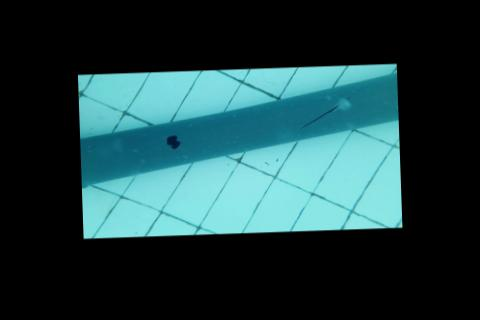kebocoran: (162, 134, 181, 151)
keretakan: (297, 97, 352, 130)
